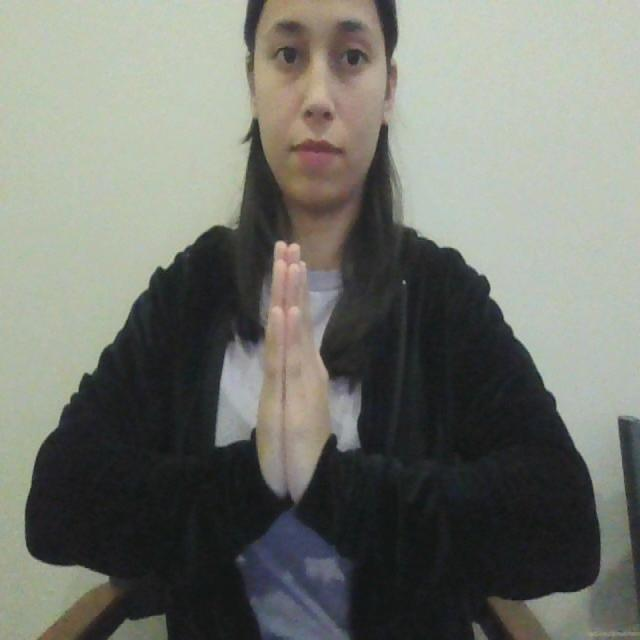Ozur-Dilemek: (249, 233, 338, 523)
